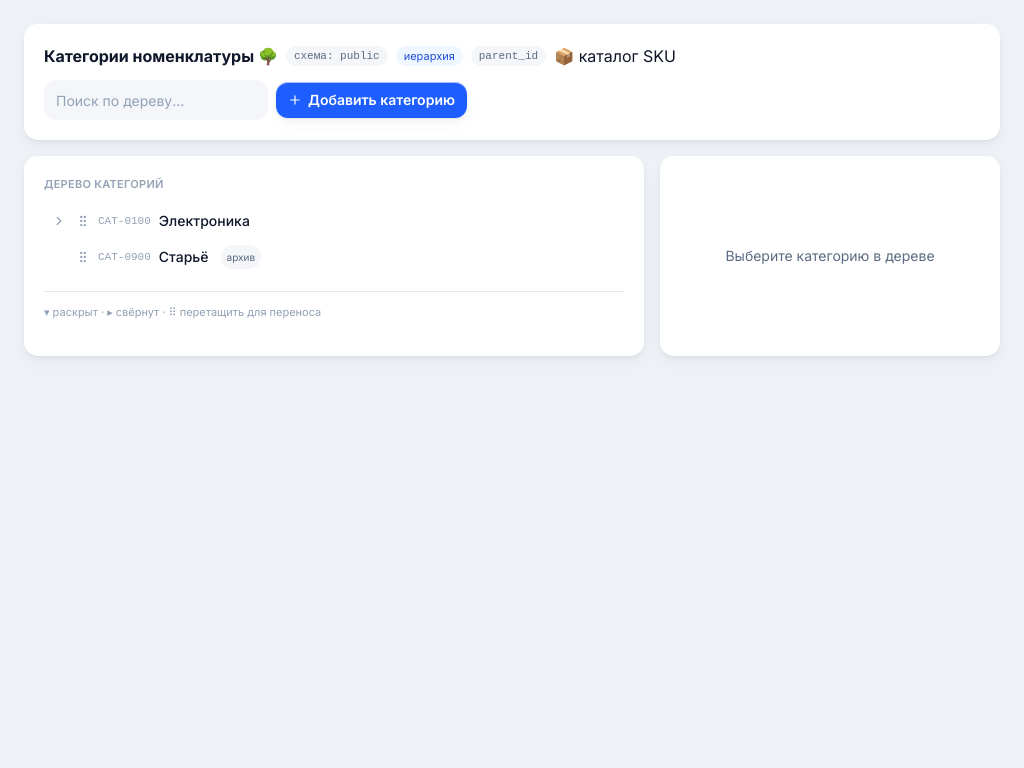
Test: SpravCategories › пустая группа без товаров показывает поясняющую подсказку
What coordinates should you click on to do the following:
click the text "Электроника"
I would click on:
 (204, 220)
Its box is [159,210,250,230].
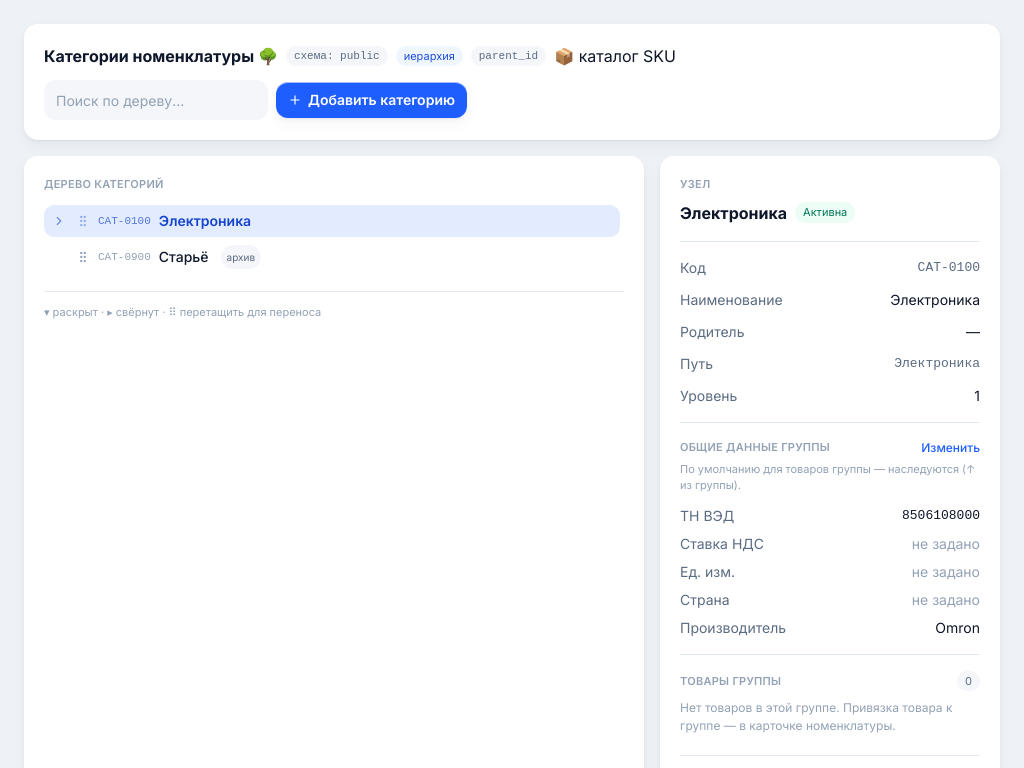
Expected: the text "Нет товаров в этой группе" is shown, [680,700,952,733]
